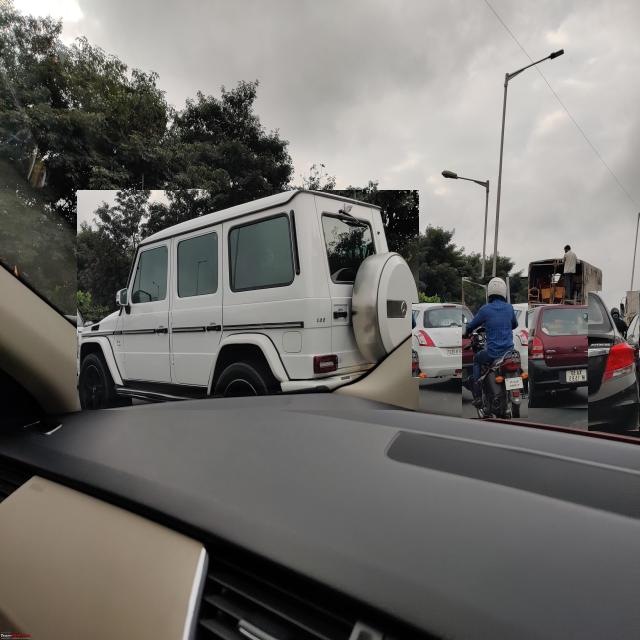car: (78, 190, 419, 410), (516, 305, 600, 408), (589, 291, 639, 431), (412, 304, 476, 378)
motorcycle: (462, 277, 528, 418)
truck: (525, 258, 608, 325)
